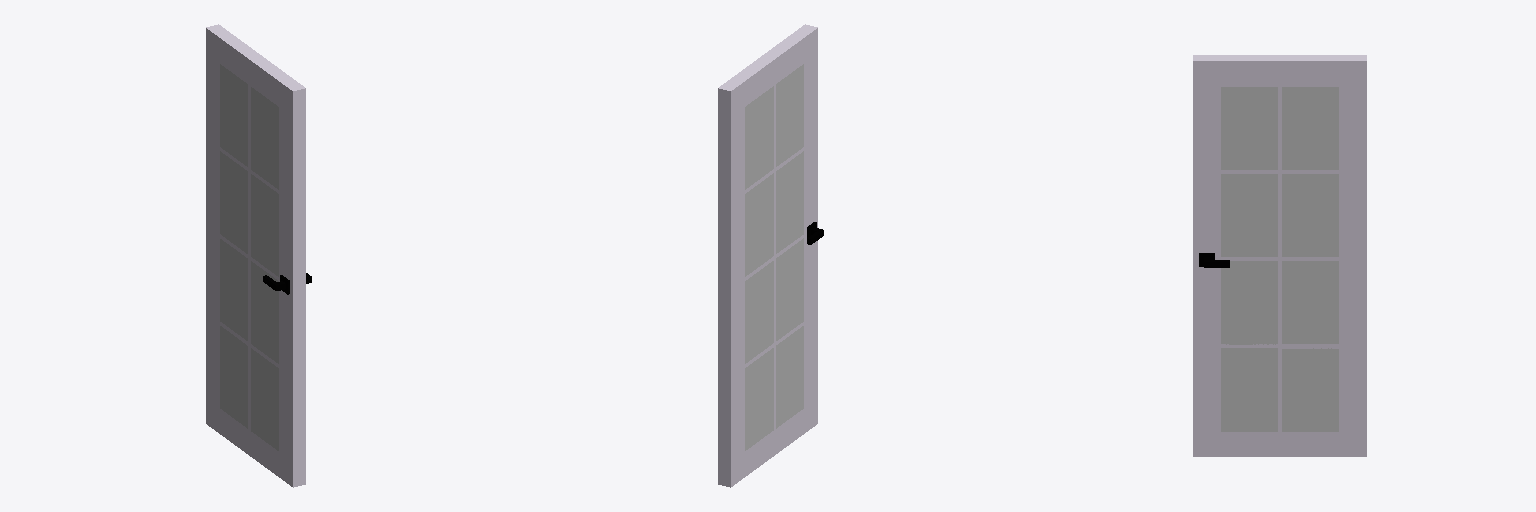
File: dvery2.obj
3 renders of one model, left to right at view 1: azimuth 30°, elevation 25°; view 2: azimuth 150°, elevation 25°; view 3: azimuth 270°, elevation 25°, orthographic.
Visible parts, largest first — view 1: Cube_door_white, Cube_glass; view 2: Cube_door_white, Cube_glass; view 3: Cube_glass, Cube_door_white.
Boxes of the visible parts, x1=… form: Cube_door_white: x1=206, y1=24, x2=305, y2=487; Cube_glass: x1=220, y1=64, x2=278, y2=450; Cube_door_white: x1=718, y1=24, x2=817, y2=487; Cube_glass: x1=745, y1=64, x2=803, y2=450; Cube_glass: x1=1221, y1=87, x2=1338, y2=431; Cube_door_white: x1=1193, y1=55, x2=1366, y2=456.
Bounding box in the file's own units: 0.1899 × 2 × 0.7997.